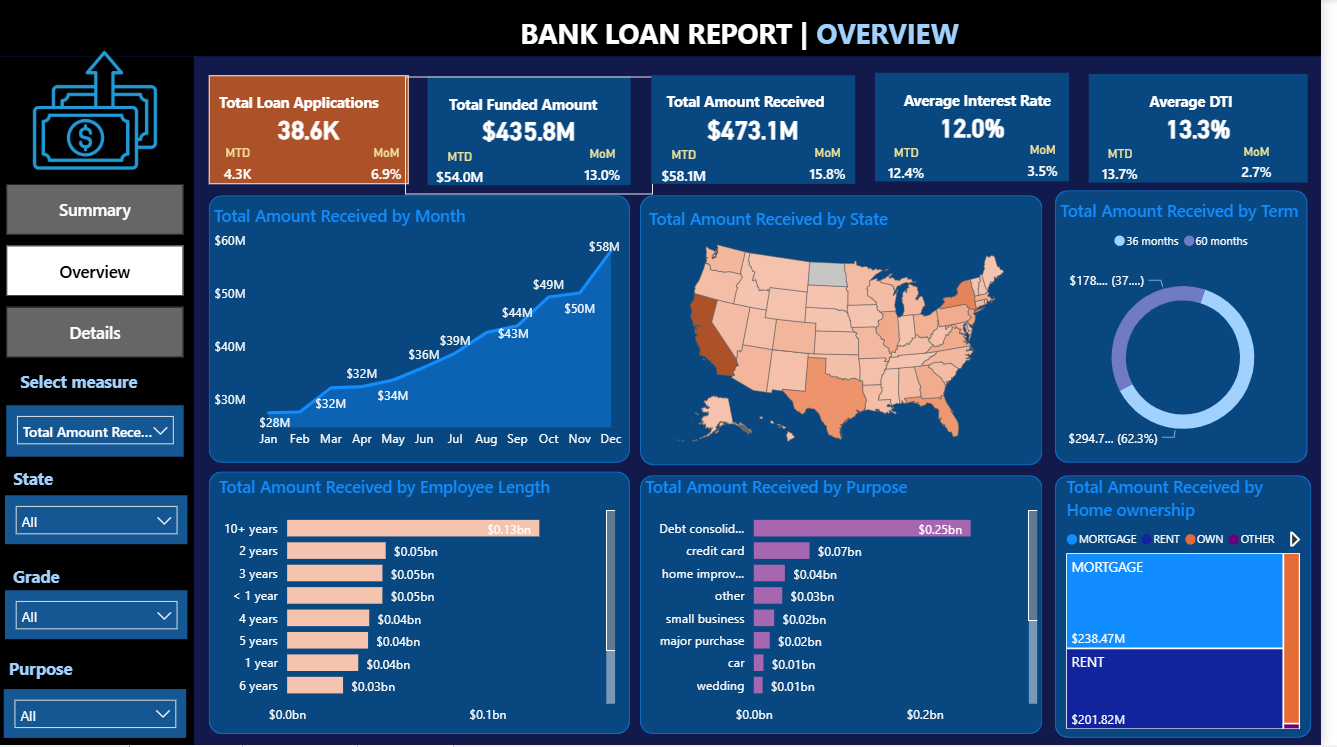

What the dashboard file says about the page in this screenshot:
{"tool":"powerbi","page":{"name":"Overview","canvas":[1280,720],"ordinal":1},"visuals":[{"type":"shape","box":[206.2,189.3,406.4,258.1],"z":0},{"type":"shape","box":[0,55.5,192,664.5],"z":1000},{"type":"shape","box":[0,0,1279.6,55],"z":2000},{"type":"textbox","box":[466.7,3.6,457.1,48.2],"z":3000},{"type":"card","fields":{"Values":["bank_loan_data.Average Interest Rate"]},"box":[848.8,71.1,187.6,104.9],"z":3000,"group":"g4"},{"type":"card","fields":{"Values":["bank_loan_data.Avg DTI"]},"box":[1055.4,72.2,211,104.9],"z":3000,"group":"g5"},{"type":"card","fields":{"Values":["bank_loan_data.Total Amount Reeceived"]},"box":[633.6,73.3,196.4,104.9],"z":3000,"group":"g3"},{"type":"card","fields":{"Values":["bank_loan_data.Total loan applications"]},"box":[206.1,73.6,192.5,104.9],"z":3000,"group":"g1"},{"type":"card","fields":{"Values":["bank_loan_data.Total funded amount"]},"box":[417.3,74.5,195.7,104.9],"z":3000,"group":"g2"},{"type":"group","id":"g1","title":"Group 1","box":[185.7,73.6,240,113.4],"z":4000},{"type":"textbox","box":[848.8,83.2,197.1,30.2],"z":4000,"group":"g4"},{"type":"textbox","box":[643.4,83.7,196.6,31.4],"z":4000,"group":"g3"},{"type":"textbox","box":[1055.4,84.3,197.1,30.2],"z":4000,"group":"g5"},{"type":"textbox","box":[433.4,86,189.3,30.2],"z":4000,"group":"g2"},{"type":"textbox","box":[211,86.1,202.1,30.2],"z":4000,"group":"g1"},{"type":"group","id":"g2","title":"Group 1","box":[395.9,74.5,240,113.4],"z":5000},{"type":"card","title":"MTD","fields":{"Values":["bank_loan_data.MTD Loan Applications"]},"box":[185.7,141.6,96.8,45.8],"z":5000,"group":"g1"},{"type":"card","title":"MTD","fields":{"Values":["bank_loan_data.MTD Avg Int Rate"]},"box":[828.2,141.6,101.3,38.6],"z":5000,"group":"g4"},{"type":"card","title":"MTD","fields":{"Values":["bank_loan_data.MTD Avg DTI"]},"box":[1034.8,142.7,101.3,38.6],"z":5000,"group":"g5"},{"type":"card","title":"MTD","fields":{"Values":["bank_loan_data.MTD Total Amount Received"]},"box":[612.1,143.8,106.1,38.6],"z":5000,"group":"g3"},{"type":"card","title":"MTD","fields":{"Values":["bank_loan_data.MTD funded amount"]},"box":[395.9,145,105.7,38.6],"z":5000,"group":"g2"},{"type":"group","id":"g3","title":"Group 1","box":[612.1,73.3,240.9,113.4],"z":6000},{"type":"card","title":"MoM","fields":{"Values":["bank_loan_data.MoM Avg Int Rate"]},"box":[963.8,138.6,94.5,45.8],"z":6000,"group":"g4"},{"type":"card","title":"MoM","fields":{"Values":["bank_loan_data.MoM Avg DTI"]},"box":[1170.4,139.7,94.5,45.8],"z":6000,"group":"g5"},{"type":"card","title":"MoM","fields":{"Values":["bank_loan_data.MoM Total received amount"]},"box":[754.1,140.8,98.9,45.8],"z":6000,"group":"g3"},{"type":"card","title":"MoM","fields":{"Values":["bank_loan_data.MoM Loan Application"]},"box":[328.9,141.6,96.8,45.8],"z":6000,"group":"g1"},{"type":"card","title":"MoM","fields":{"Values":["bank_loan_data.MoM Total funded amount"]},"box":[537.3,142,98.6,45.8],"z":6000,"group":"g2"},{"type":"group","id":"g4","title":"Group 1","box":[828.2,71.1,230.4,113.4],"z":7000},{"type":"group","id":"g5","title":"Group 1","box":[1034.8,72.2,231.6,113.4],"z":8000},{"type":"textbox","box":[224.3,193,214.7,41],"z":9000},{"type":"textbox","box":[758.6,197.8,214.7,41],"z":10000},{"type":"shape","box":[0,0,1279.6,55.5],"z":11000},{"type":"slicer","fields":{"Values":["bank_loan_data.address_state"]},"box":[9.6,478.3,176.1,47],"z":12000},{"type":"slicer","fields":{"Values":["bank_loan_data.grade"]},"box":[9.6,570,176.1,47],"z":13000},{"type":"slicer","fields":{"Values":["bank_loan_data.purpose"]},"box":[8.4,665.2,176.1,47],"z":14000},{"type":"textbox","box":[8.4,445.7,56.7,41],"z":15000},{"type":"textbox","box":[0,541,79.6,41],"z":16000},{"type":"textbox","box":[0,629.1,88,41],"z":17000},{"type":"shape","box":[622.3,189.3,388.3,260.5],"z":18000},{"type":"textbox","box":[501.7,9.6,535.5,45.8],"z":19000},{"type":"textbox","box":[10.9,352.9,139.9,38.6],"z":20000},{"type":"areaChart","fields":{"Y":["bank_loan_data.Total Amount Received"],"Category":["Date table.Month"]},"box":[206.2,197.8,405.2,244.8],"z":21000},{"type":"slicer","fields":{"Values":["Select measure.Select measure"]},"box":[10.9,391.5,171.3,49.4],"z":22000},{"type":"shapeMap","fields":{"Value":["bank_loan_data.Total Amount Received"],"Category":["bank_loan_data.address_state"]},"box":[625.9,200.2,379.9,242.4],"z":23000},{"type":"shape","box":[1022.7,184.5,243.6,262.9],"z":24000},{"type":"donutChart","fields":{"Y":["bank_loan_data.Total Amount Received"],"Category":["bank_loan_data.term"]},"box":[1022.7,193,247.2,256.9],"z":25000},{"type":"shape","box":[206.2,455.9,406.4,253.3],"z":26000},{"type":"barChart","fields":{"Y":["bank_loan_data.Total Amount Received"],"Category":["bank_loan_data.emp_length"]},"box":[211.1,459.5,392,249.6],"z":27000},{"type":"shape","box":[622.3,459.5,388.3,249.6],"z":28000},{"type":"shape","box":[1022.7,459.5,247.2,253.3],"z":29000},{"type":"barChart","fields":{"Y":["bank_loan_data.Total Amount Received"],"Category":["bank_loan_data.purpose"]},"box":[622.3,459.5,388.3,249.6],"z":30000},{"type":"treemap","fields":{"Values":["bank_loan_data.Total Amount Received"],"Group":["bank_loan_data.home_ownership"]},"box":[1028.7,459.5,235.2,249.6],"z":31000},{"type":"pageNavigator","box":[10.9,178.5,171.3,167.6],"z":32000},{"type":"image","box":[10.9,33.8,171.3,147.1],"z":33000}]}

Visuals, with their boxes in screenshot pixels (x1, y1, x2, y2), scaled from the page's 1280x720 canvas onto the 1337x747 screenshot:
shape: region(215, 196, 640, 464)
shape: region(0, 58, 201, 746)
shape: region(0, 0, 1336, 57)
textbox: region(487, 4, 965, 54)
card - bank_loan_data.Average Interest Rate: region(887, 74, 1083, 183)
card - bank_loan_data.Avg DTI: region(1102, 75, 1323, 184)
card - bank_loan_data.Total Amount Reeceived: region(662, 76, 867, 185)
card - bank_loan_data.Total loan applications: region(215, 76, 416, 185)
card - bank_loan_data.Total funded amount: region(436, 77, 640, 186)
"Group 1" group: region(194, 76, 445, 194)
textbox: region(887, 86, 1092, 118)
textbox: region(672, 87, 877, 119)
textbox: region(1102, 87, 1308, 119)
textbox: region(453, 89, 650, 121)
textbox: region(220, 89, 431, 121)
"Group 1" group: region(414, 77, 664, 195)
"MTD" card: region(194, 147, 295, 194)
"MTD" card: region(865, 147, 971, 187)
"MTD" card: region(1081, 148, 1187, 188)
"MTD" card: region(639, 149, 750, 189)
"MTD" card: region(414, 150, 524, 190)
"Group 1" group: region(639, 76, 891, 194)
"MoM" card: region(1007, 144, 1105, 191)
"MoM" card: region(1223, 145, 1321, 192)
"MoM" card: region(788, 146, 891, 194)
"MoM" card: region(344, 147, 445, 194)
"MoM" card: region(561, 147, 664, 195)
"Group 1" group: region(865, 74, 1106, 191)
"Group 1" group: region(1081, 75, 1323, 193)
textbox: region(234, 200, 459, 243)
textbox: region(792, 205, 1017, 248)
shape: region(0, 0, 1336, 58)
slicer - bank_loan_data.address_state: region(10, 496, 194, 545)
slicer - bank_loan_data.grade: region(10, 591, 194, 640)
slicer - bank_loan_data.purpose: region(9, 690, 193, 739)
textbox: region(9, 462, 68, 505)
textbox: region(0, 561, 83, 604)
textbox: region(0, 653, 92, 695)
shape: region(650, 196, 1056, 467)
textbox: region(524, 10, 1083, 57)
textbox: region(11, 366, 158, 406)
areaChart - bank_loan_data.Total Amount Received x Date table.Month: region(215, 205, 639, 459)
slicer - Select measure.Select measure: region(11, 406, 190, 457)
shapeMap - bank_loan_data.Total Amount Received x bank_loan_data.address_state: region(654, 208, 1051, 459)
shape: region(1068, 191, 1323, 464)
donutChart - bank_loan_data.Total Amount Received x bank_loan_data.term: region(1068, 200, 1326, 467)
shape: region(215, 473, 640, 736)
barChart - bank_loan_data.Total Amount Received x bank_loan_data.emp_length: region(221, 477, 630, 736)
shape: region(650, 477, 1056, 736)
shape: region(1068, 477, 1326, 740)
barChart - bank_loan_data.Total Amount Received x bank_loan_data.purpose: region(650, 477, 1056, 736)
treemap - bank_loan_data.Total Amount Received x bank_loan_data.home_ownership: region(1075, 477, 1320, 736)
pageNavigator: region(11, 185, 190, 359)
image: region(11, 35, 190, 188)
